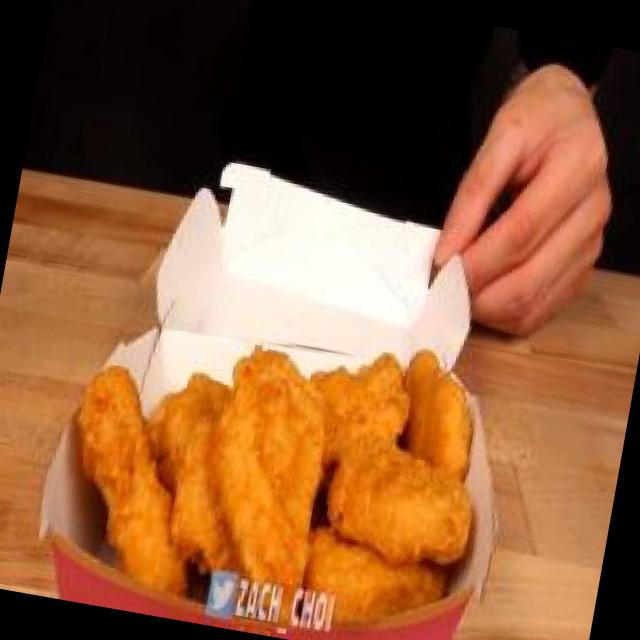nugget: (37, 240, 524, 640)
